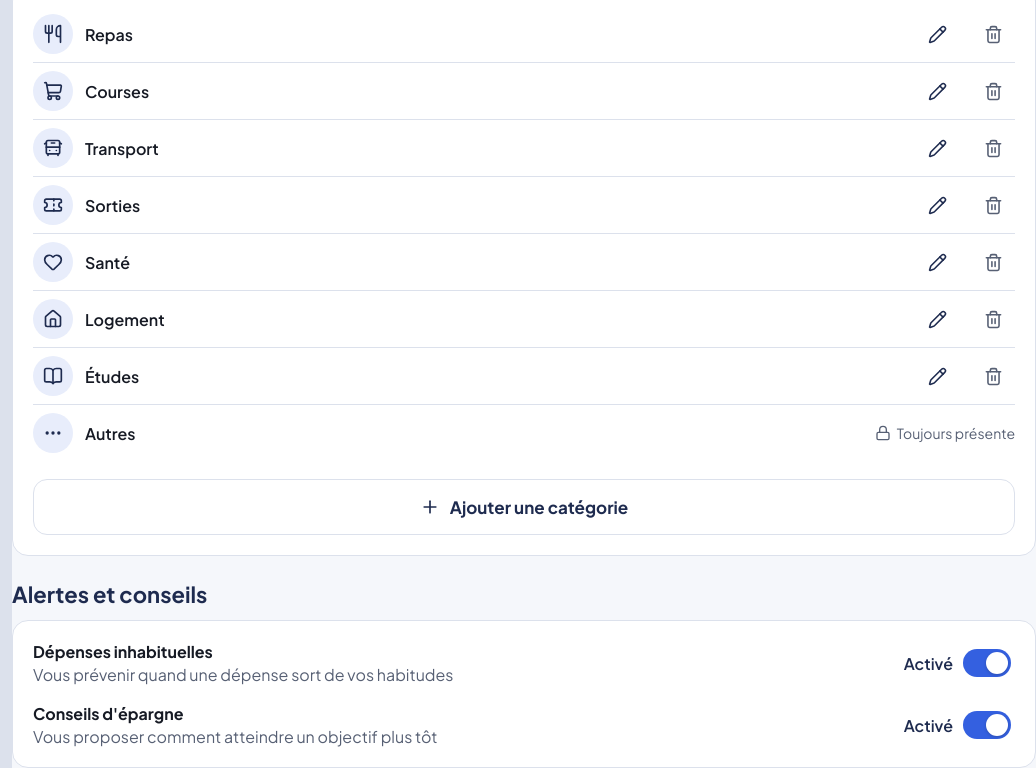
Réglages › interrupteurs : état écrit en texte, effet immédiat, message sans « Annuler »
(page scrolled)
Step 1. Click the switch named "Dépenses inhabituelles" → [954, 663], box [894,641,1015,685]
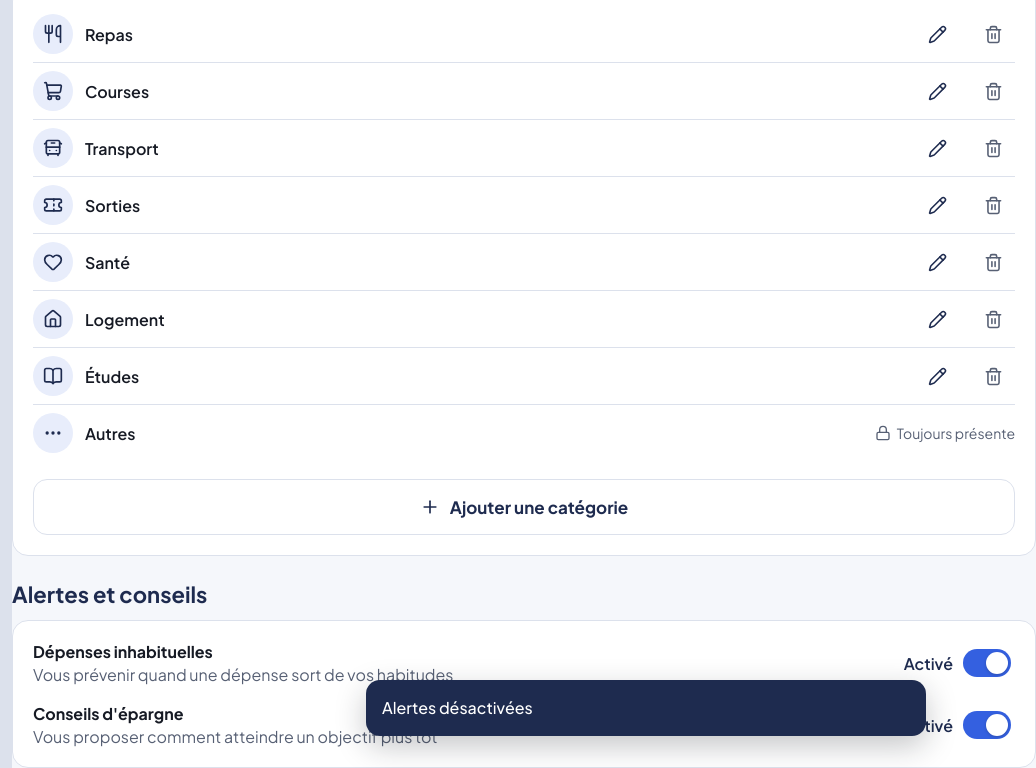
Expected: the message reads "Alertes désactivées", [382,697,533,718]
Step 2. Click the switch named "Conseils d'épargne" → [954, 725], box [894,703,1015,747]
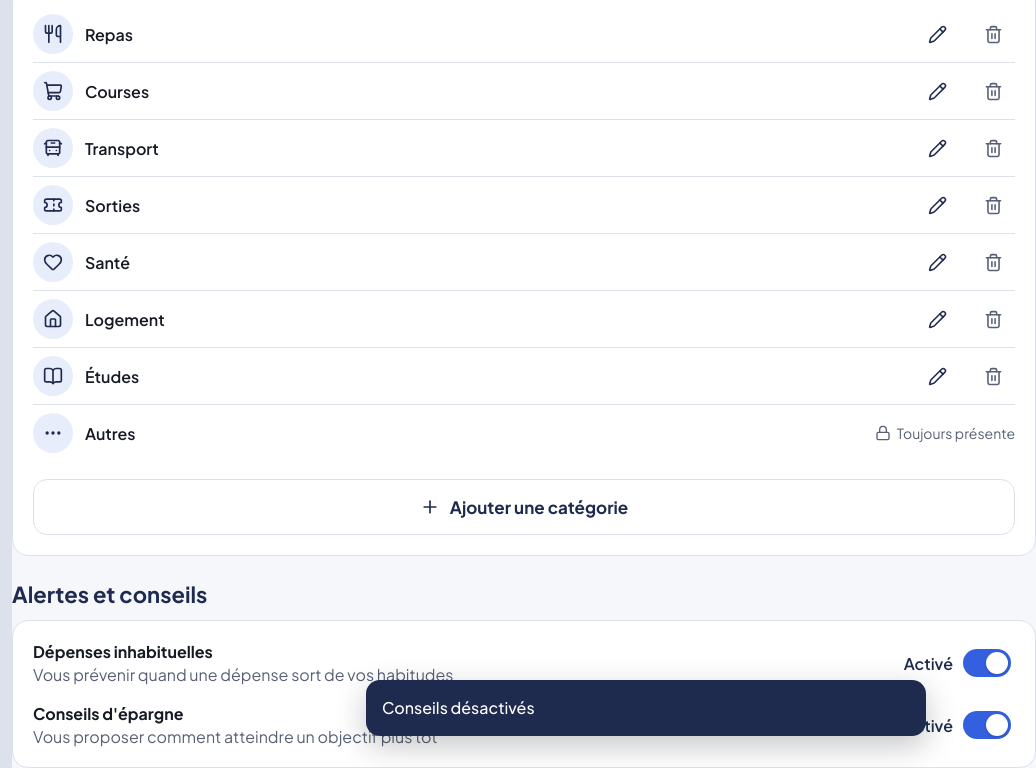
Expected: the message reads "Conseils désactivés", [382,697,535,718]
